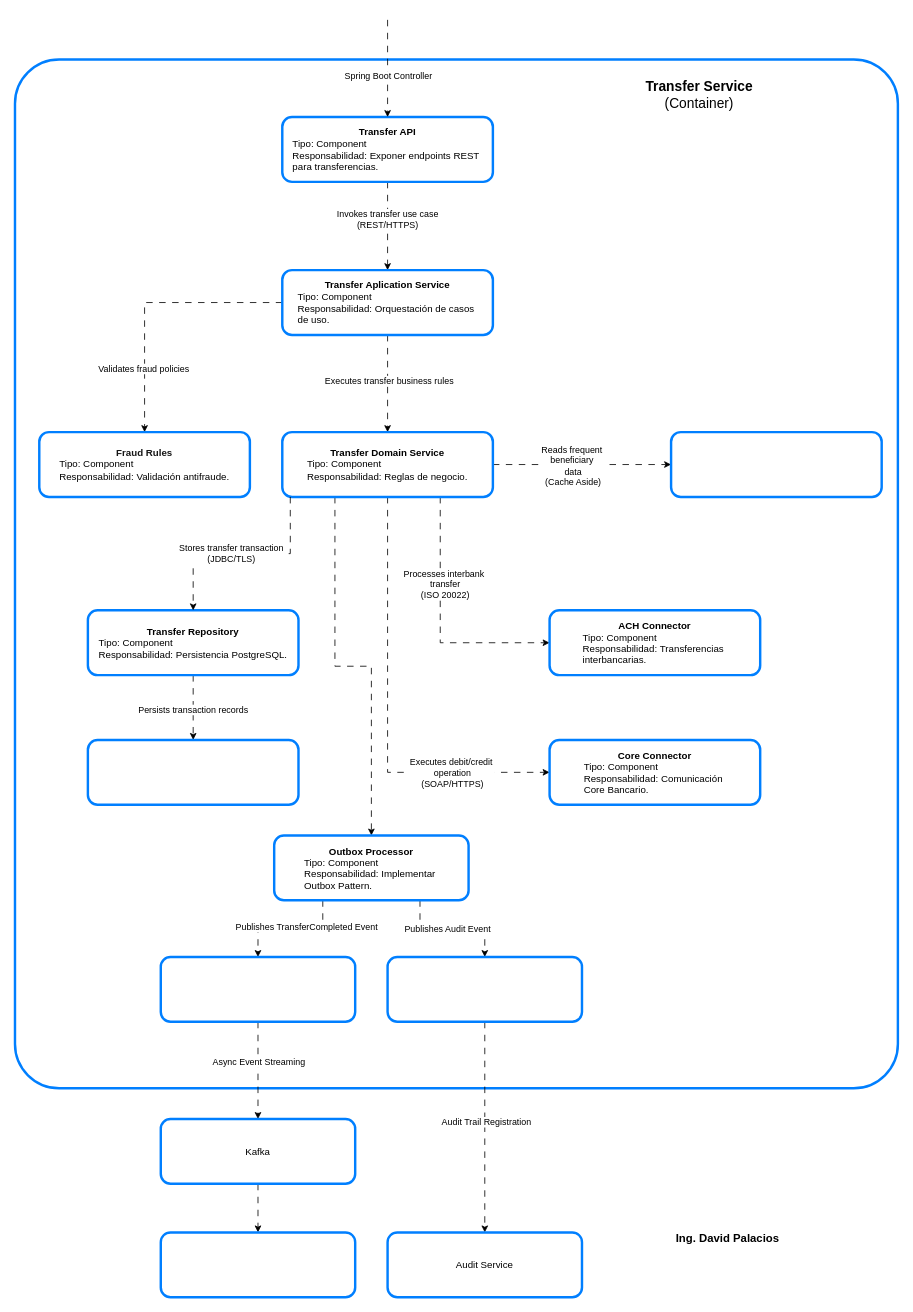
The diagram is 913 pixels wide and 1312 high, and some of its shapes have lost their labels. Each missing label, with the centre of its shape:
"Audit Publisher Tipo: Component Responsabilidad: Publicar eventos de auditoría." goes at pixel 484 989.
"Event Publisher Tipo: Component Responsabilidad: Publicar eventos Kafka." goes at pixel 257 989.
"Notification Service" goes at pixel 257 1264.
"PostgreSQL" goes at pixel 192 772.
"Redis Cache Provider Tipo: Component Responsabilidad: Cache Aside." goes at pixel 775 464.
